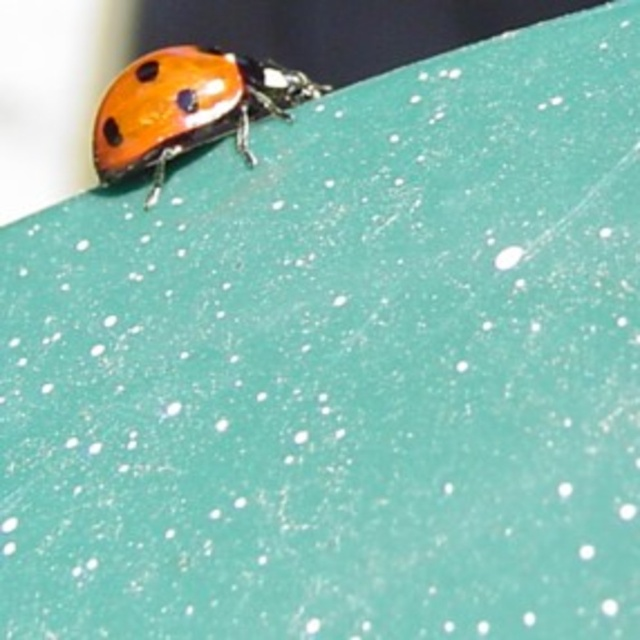Ladybug: (85, 43, 327, 211)
